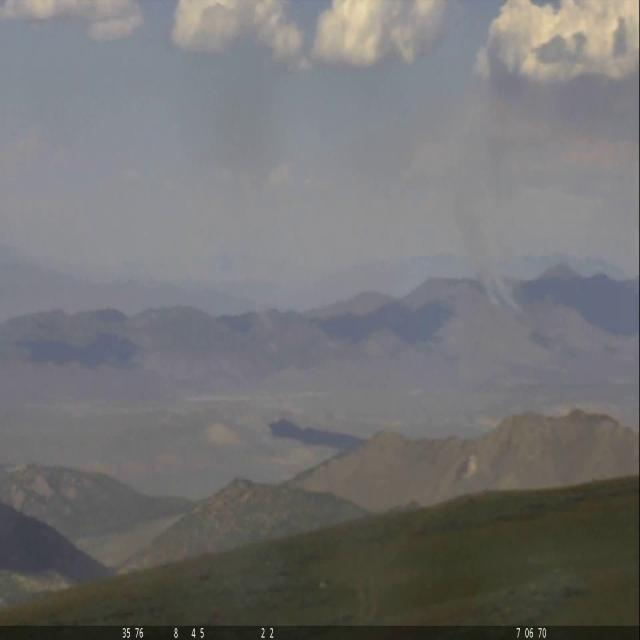smoke: (461, 95, 532, 317)
